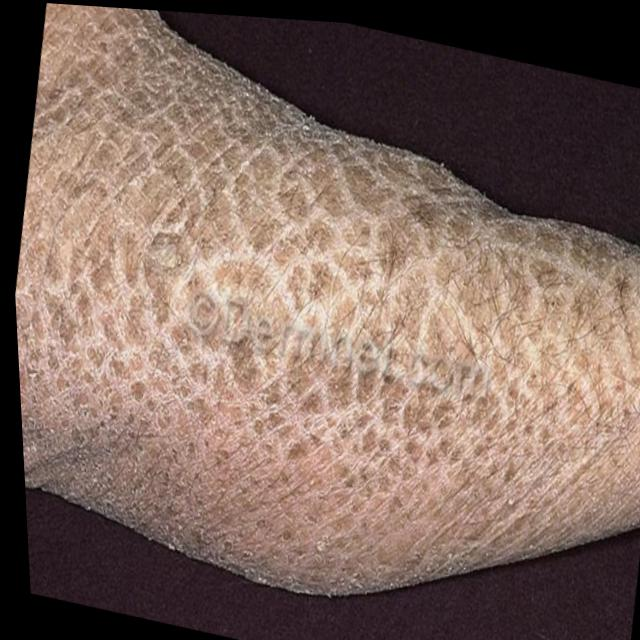liquenificacion 1: (15, 3, 640, 598)
liquenificacion 2: (15, 3, 640, 598)
liquenificacion 3: (15, 3, 640, 598)
